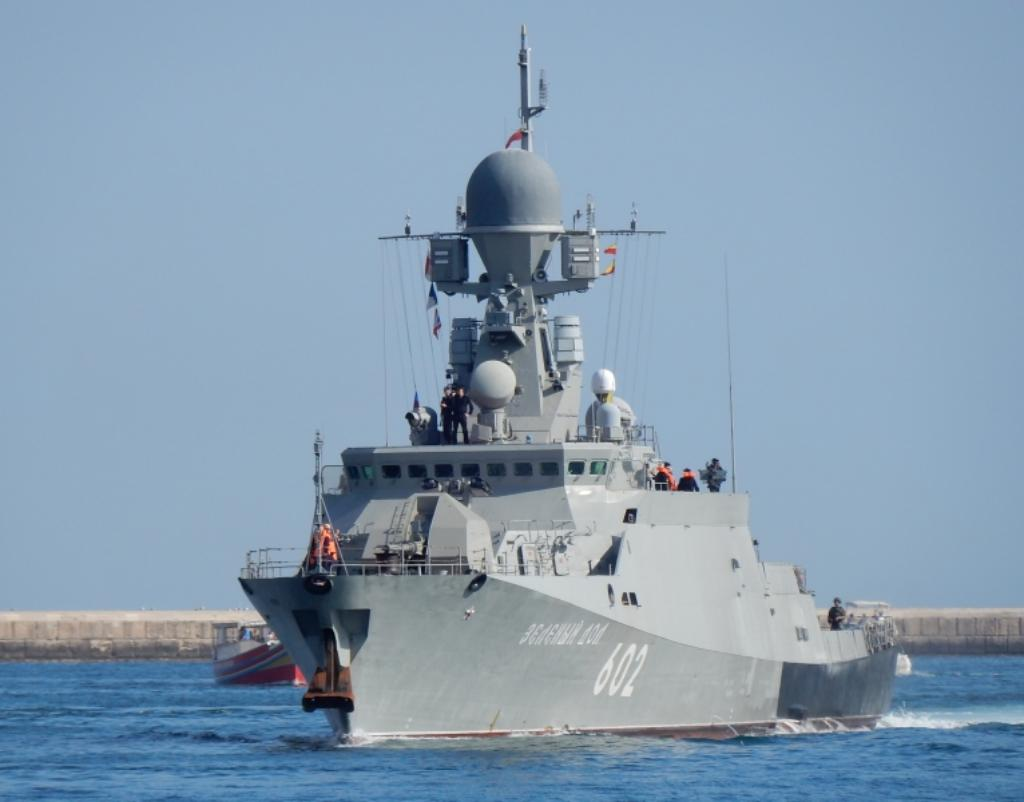PassengerShip: (210, 612, 300, 688)
